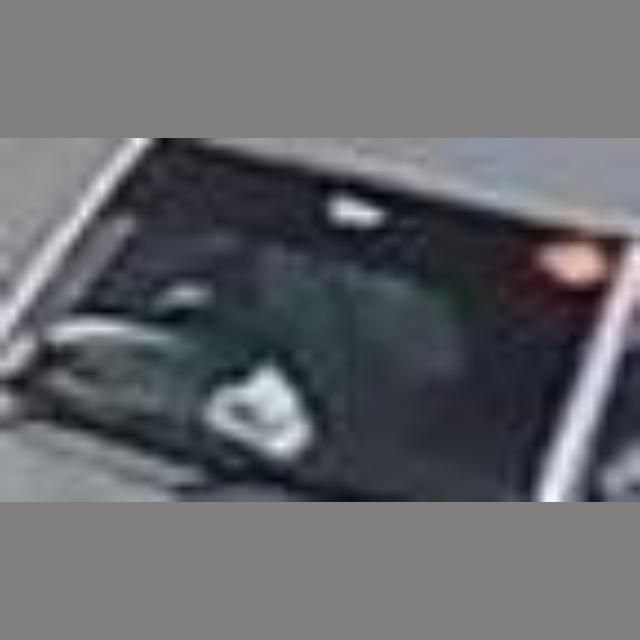pakai: (231, 227, 462, 449)
